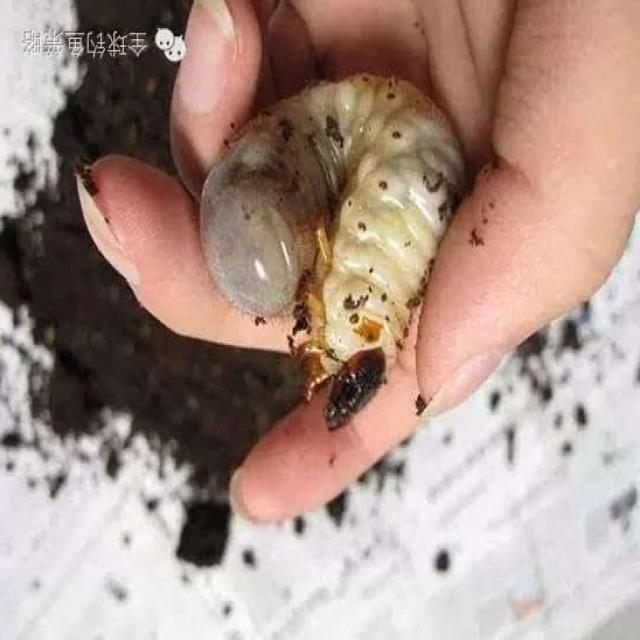grub: (186, 53, 457, 420)
